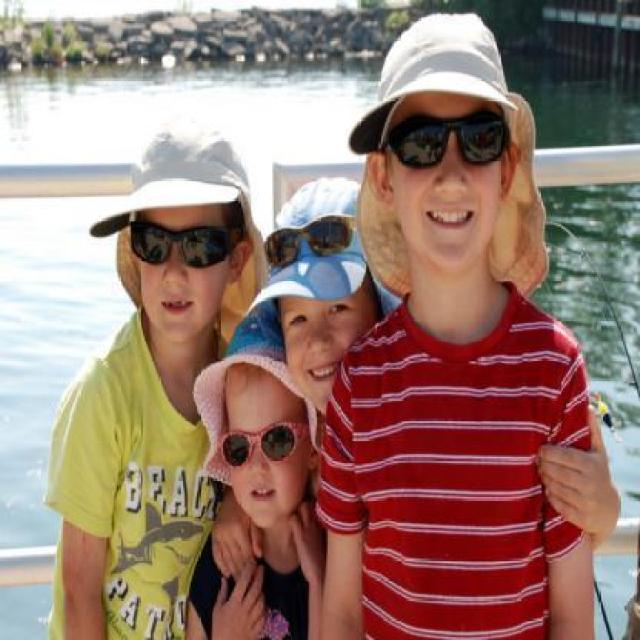face_nomask: (396, 115, 504, 253), (130, 218, 225, 320), (222, 425, 303, 513), (288, 304, 362, 391)
glasses: (389, 109, 513, 178), (258, 210, 354, 270), (127, 221, 233, 267), (219, 416, 304, 472)
hand_noglove: (532, 399, 625, 541), (207, 558, 273, 640), (202, 510, 267, 582)
head_nohelmet: (364, 33, 530, 115), (107, 127, 258, 215), (245, 222, 392, 310), (192, 344, 326, 416)
